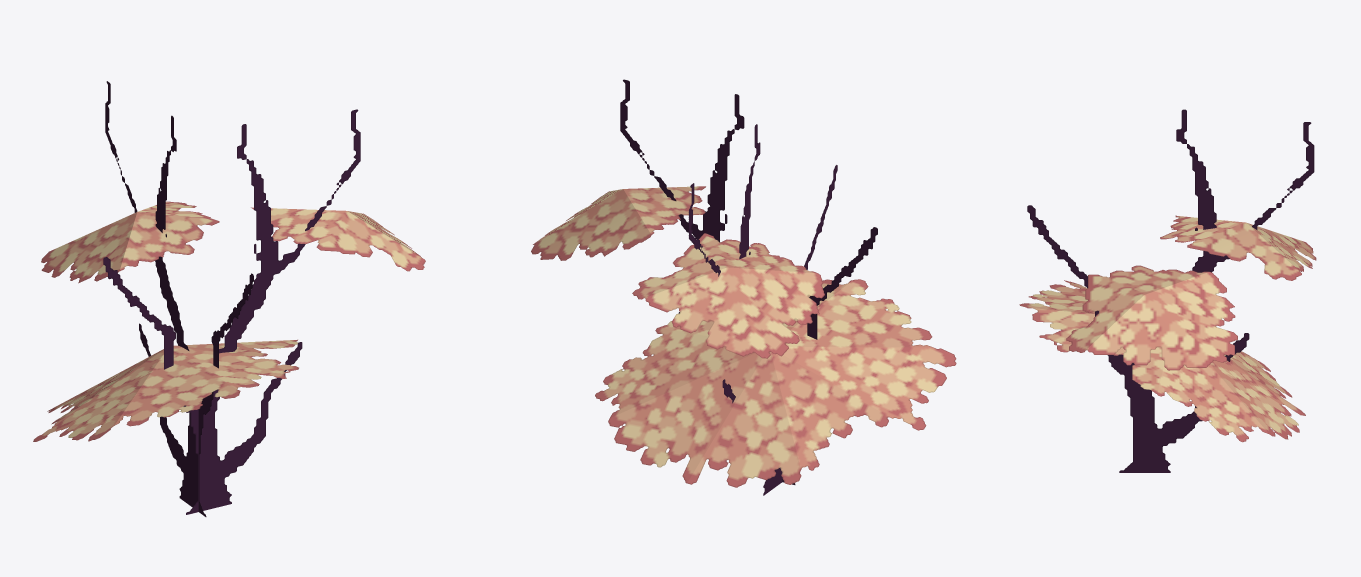
Rendered from bush_02c.fbx.
3 views of the same model, side by side, from view 1: azimuth 30°, elevation 25°; view 2: azimuth 150°, elevation 25°; view 3: azimuth 270°, elevation 25° (orthographic). The views are drawn at different scales.
Parts seen in each view (by area): view 1: bush_02c; view 2: bush_02c; view 3: bush_02c.
Boxes of the visible parts, left/top/right/bottom form: bush_02c: left=33, top=81, right=425, bottom=516; bush_02c: left=531, top=79, right=956, bottom=495; bush_02c: left=1019, top=109, right=1316, bottom=472.
Bounding box in the file's own units: 0.3163 × 0.3206 × 0.2523.
Materials: 1 (1 with a texture image).
